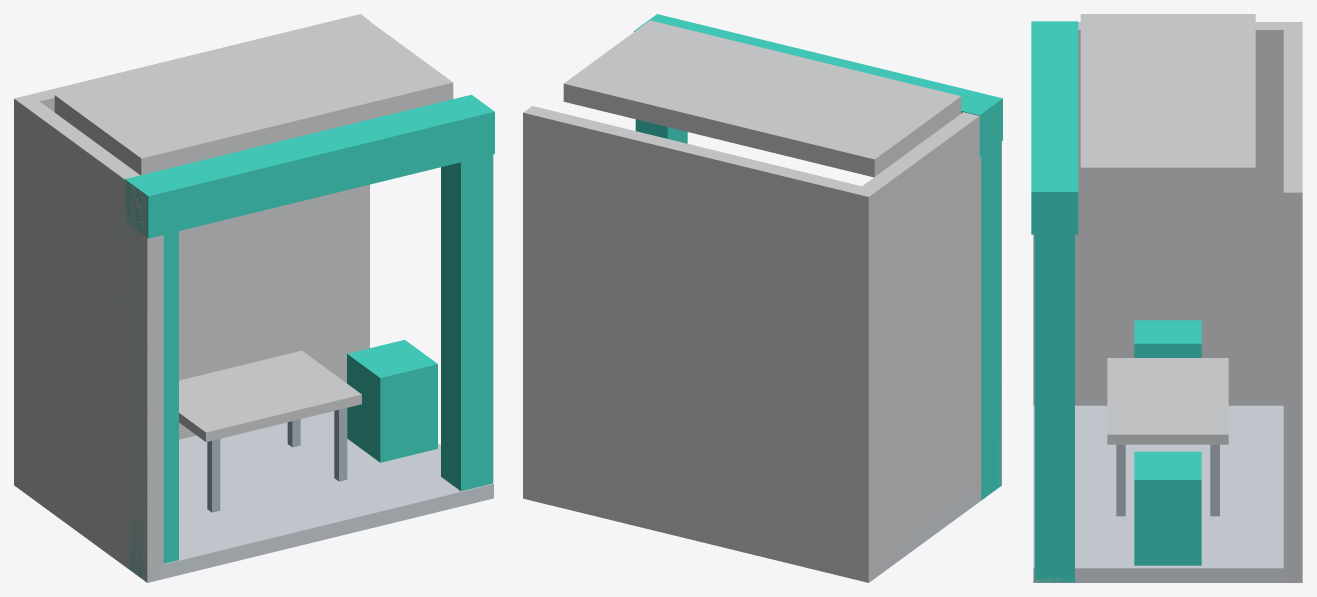
3 renders of one model, left to right at view 1: azimuth 30°, elevation 25°; view 2: azimuth 150°, elevation 25°; view 3: azimuth 270°, elevation 25°, orthographic.
Visible parts, largest first — view 1: Exhibition Booth Concept; view 2: Exhibition Booth Concept; view 3: Exhibition Booth Concept.
Part boxes in pixels (bbox=[...]): Exhibition Booth Concept: bbox=[14, 14, 494, 582]; Exhibition Booth Concept: bbox=[523, 14, 1002, 582]; Exhibition Booth Concept: bbox=[1031, 14, 1302, 582].
Size of the model in its own units: 3 by 3.34 by 2.01.
